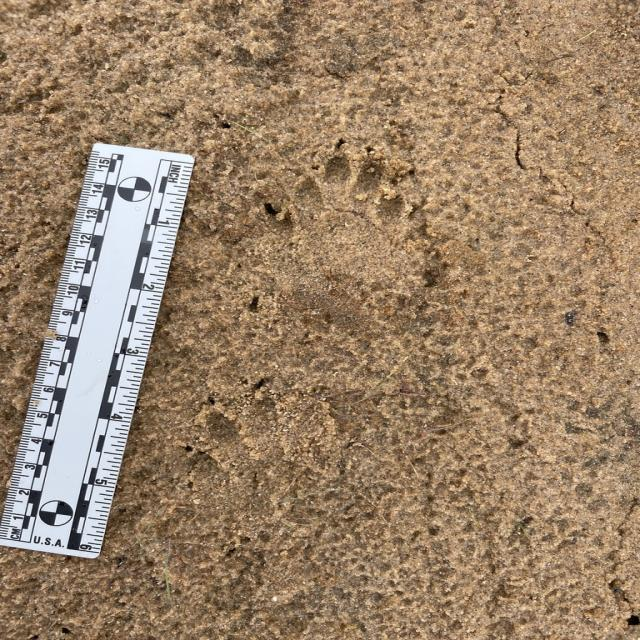mustelid: (188, 388, 336, 514), (285, 144, 408, 260)
